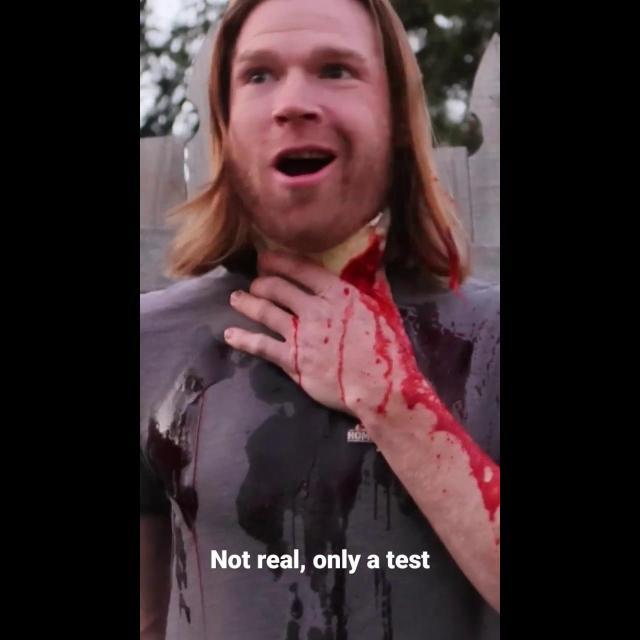blood: (390, 324, 500, 521), (400, 302, 473, 424), (340, 235, 408, 340), (323, 287, 354, 413), (292, 315, 304, 390)
